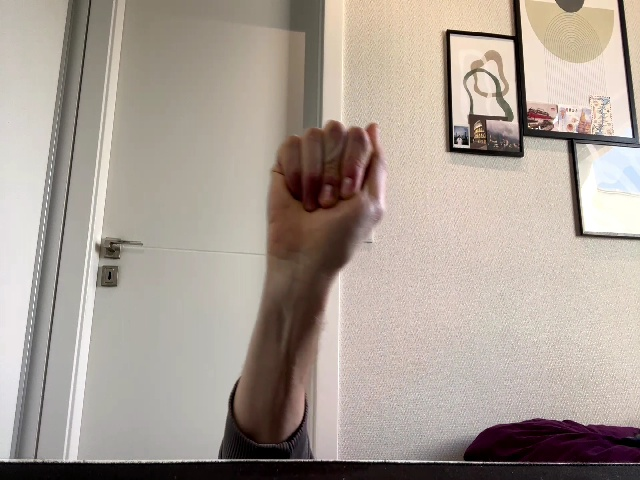A: (265, 119, 387, 276)
